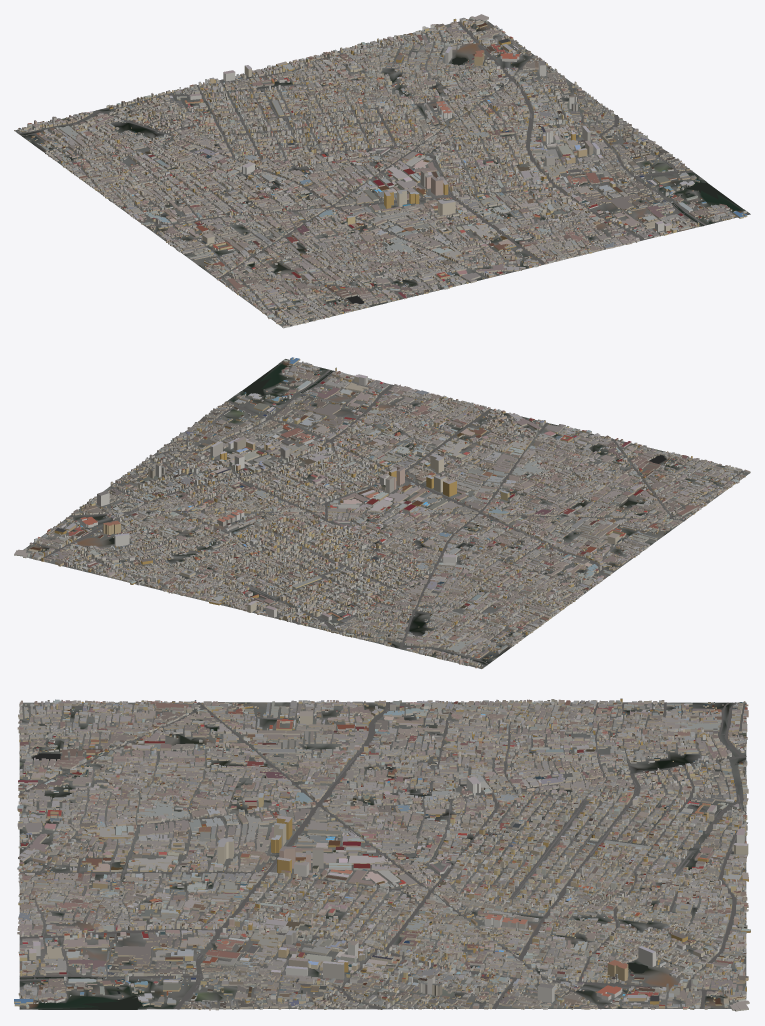
The picture shows the model from 3 angles, top to bottom: view 1: azimuth 30°, elevation 25°; view 2: azimuth 150°, elevation 25°; view 3: azimuth 270°, elevation 25°; orthographic projection. The views are drawn at different scales.
Parts seen in each view (by area): view 1: buildings, ground, roads, water; view 2: buildings, ground, roads; view 3: buildings, ground, roads, water.
Boxes of the visible parts, <box> form: buildings: <box>14,14,747,327</box>; ground: <box>15,19,750,328</box>; roads: <box>17,21,736,326</box>; water: <box>346,57,741,304</box>; buildings: <box>14,357,750,668</box>; ground: <box>22,359,749,668</box>; roads: <box>32,362,743,667</box>; buildings: <box>14,698,750,1011</box>; ground: <box>19,702,746,1009</box>; roads: <box>19,702,747,1009</box>; water: <box>19,753,648,1009</box>.
Size of the model in its own units: 2834 by 90.67 by 2840.
